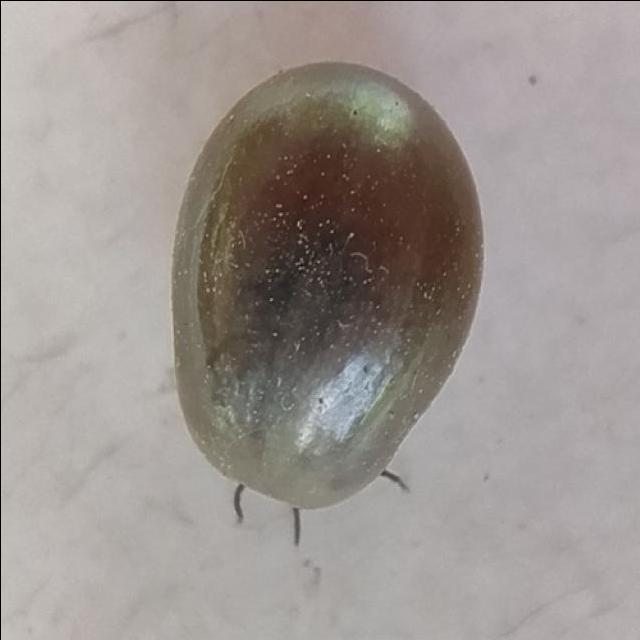Ixodes Ricinus-F-Fed: (172, 59, 485, 548)
